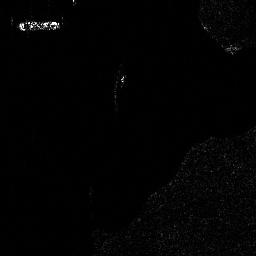ship: (19, 19, 60, 31)
